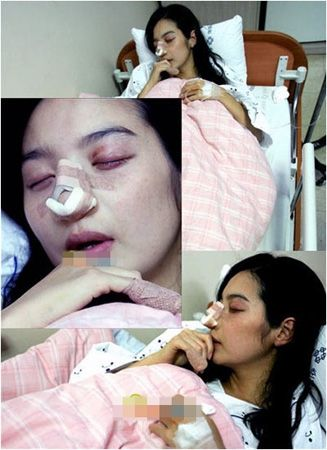face: (23, 78, 168, 281), (203, 270, 269, 365), (152, 18, 187, 72)
